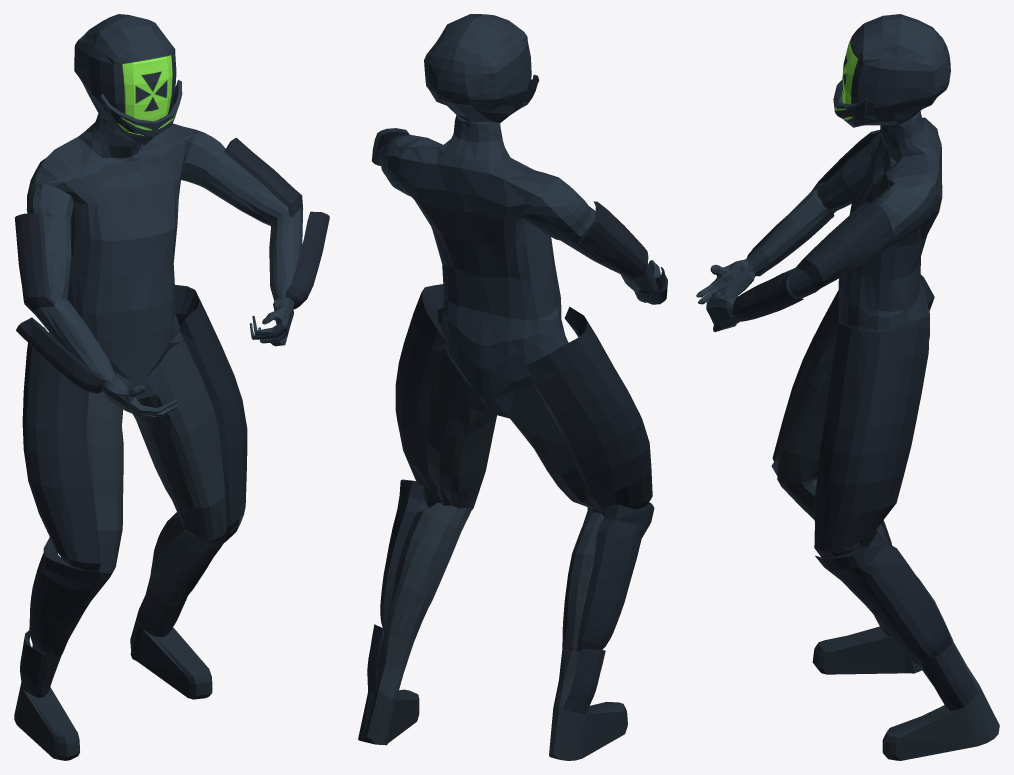
Rendered from Bastion_Hit_Recover_000010.obj.
The picture shows the model from 3 angles, left to right: view 1: azimuth 30°, elevation 25°; view 2: azimuth 150°, elevation 25°; view 3: azimuth 270°, elevation 25°; orthographic projection. The views are drawn at different scales.
Visible parts, largest first — view 1: Cube.002; view 2: Cube.002; view 3: Cube.002.
Boxes of the visible parts, left/top/right/bottom form: Cube.002: left=14, top=14, right=329, bottom=760; Cube.002: left=358, top=14, right=667, bottom=760; Cube.002: left=696, top=14, right=999, bottom=760.
Bounding box in the file's own units: 1.63 × 3.66 × 1.43.
